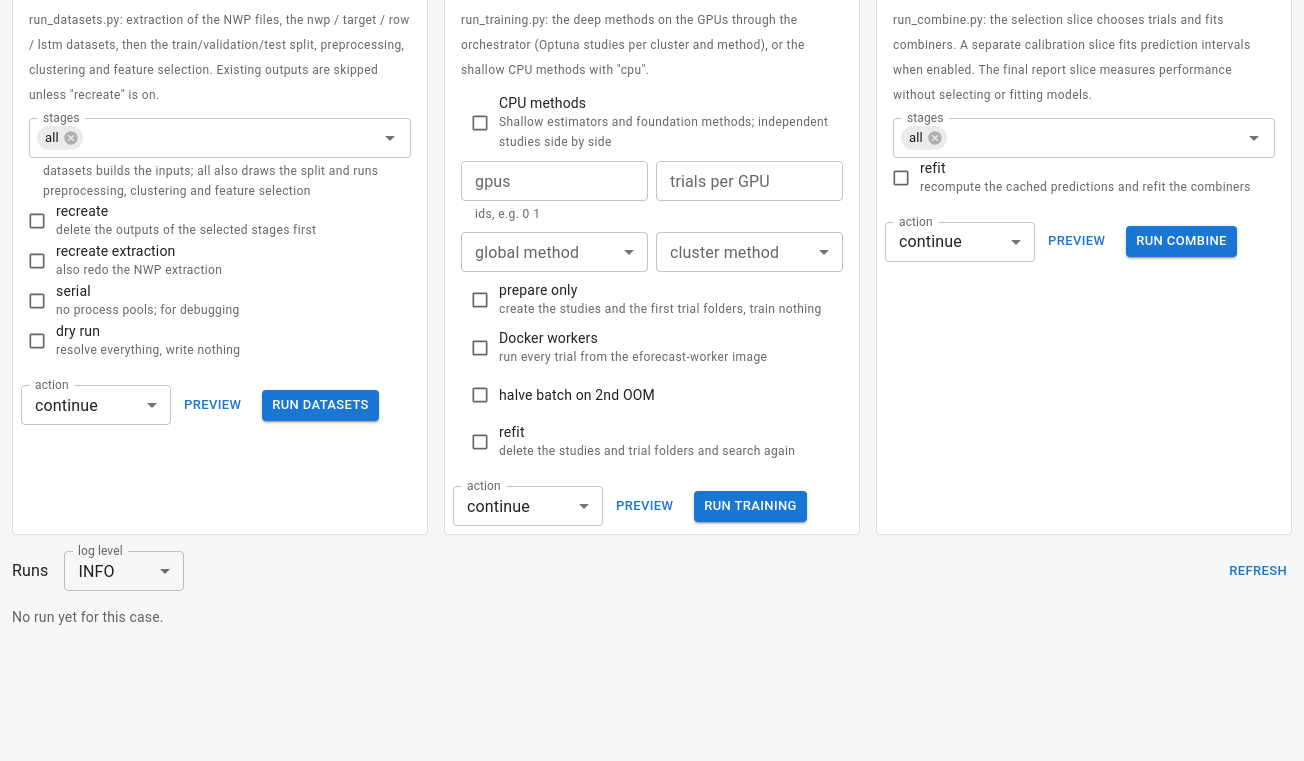
Test case: typed run resource controls › inherits an old case without materializing controls or saving anything
This screenshot has width=1304, height=761.
Later steps or results of the test are not shown.
Expected: the text "No run yet for this case." is shown, [12,609,164,625]
What coordinates should you click on to do the following:
click the checkbox labelled "CPU methods"
I would click on:
 (652, 123)
Its box is [461,93,843,152].
(page scrolled)
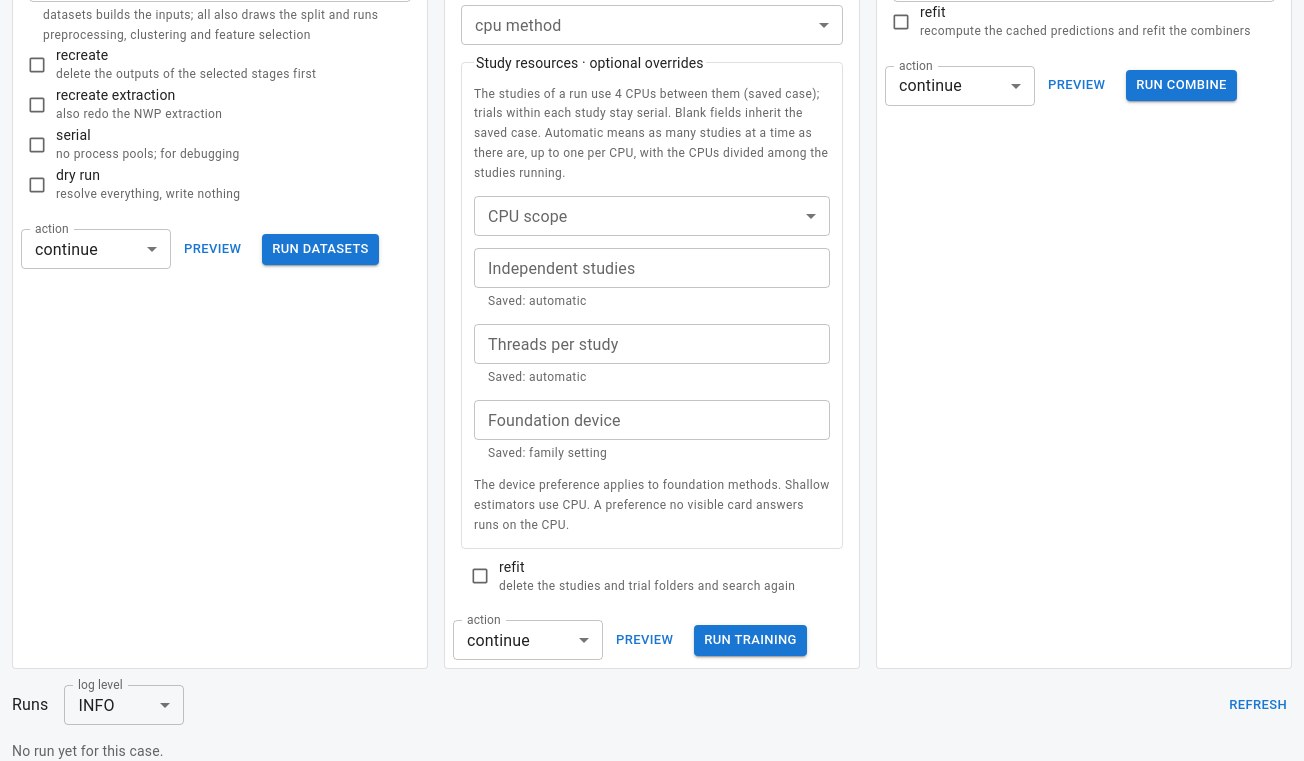
Expected: the text "The studies of a run use 4 CPUs between them" is shown, [474,85,830,184]
Expected: the field labelled "Independent studies" is empty, [474,248,830,288]
Expected: the text "Saved: automatic" is shown 2 times, [488,294,587,308]; [488,370,587,384]
